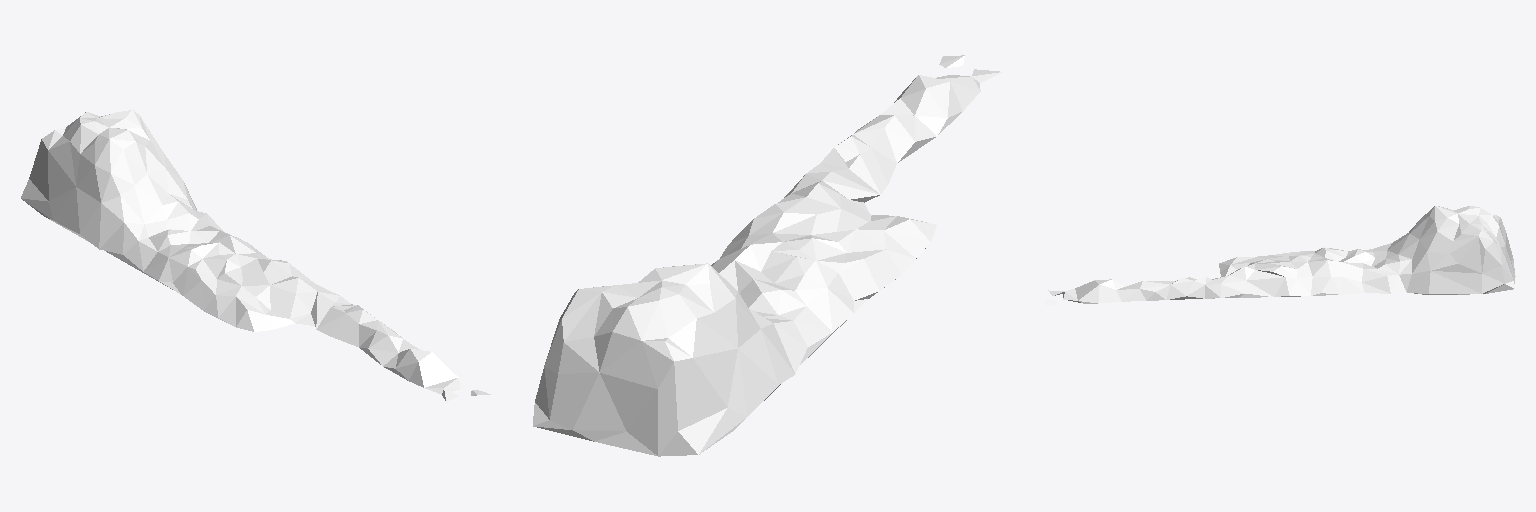
robot.urdf — objects/object_0.obj:
<robot name="objects/object_0.obj">
	<link name="_name">
		<visual>
			<origin xyz="0.03324384078069028 0.16164596844654247 0.8763220100194096" rpy="0.0 0.0 0.0" />
			<geometry>
				<mesh filename="objects/object_0.obj" scale="1 1 1" />
			</geometry>
			<material name="texture">
				<color rgba="1.0 1.0 1.0 1.0" />
			</material>
		</visual>
		<collision>
			<origin xyz="0.03324384078069028 0.16164596844654247 0.8763220100194096" rpy="0.0 0.0 0.0" />
			<geometry>
				<mesh filename="objects/object_0_vhacd.obj" scale="1 1 1" />
			</geometry>
		</collision>
		<inertial>
			<mass value="1.0" />
			<inertia ixx="1.0" ixy="0.0" ixz="0.0" iyy="1.0" iyz="0.0" izz="1.0" />
		</inertial>
	</link>
</robot>

--- Facts derived from the render (not from the file) ---
3 views of the same robot in one strip: view 1: azimuth 30°, elevation 25°; view 2: azimuth 150°, elevation 25°; view 3: azimuth 270°, elevation 25° (orthographic).
Model objects/object_0.obj with 1 links and 0 joints (none), rooted at _name, posed every joint at zero.
Links seen in each view (by area): view 1: _name; view 2: _name; view 3: _name.
Link boxes in pixels (x1,y1,x2,y2): _name: (21,110,490,401); _name: (533,55,1001,456); _name: (1045,206,1515,305).
Bounding box of the posed robot: 0.0536 × 0.1971 × 0.0286 m (x, y, z).
Meshes: 1 distinct files referenced, 1 mesh visuals loaded (1 OBJ).